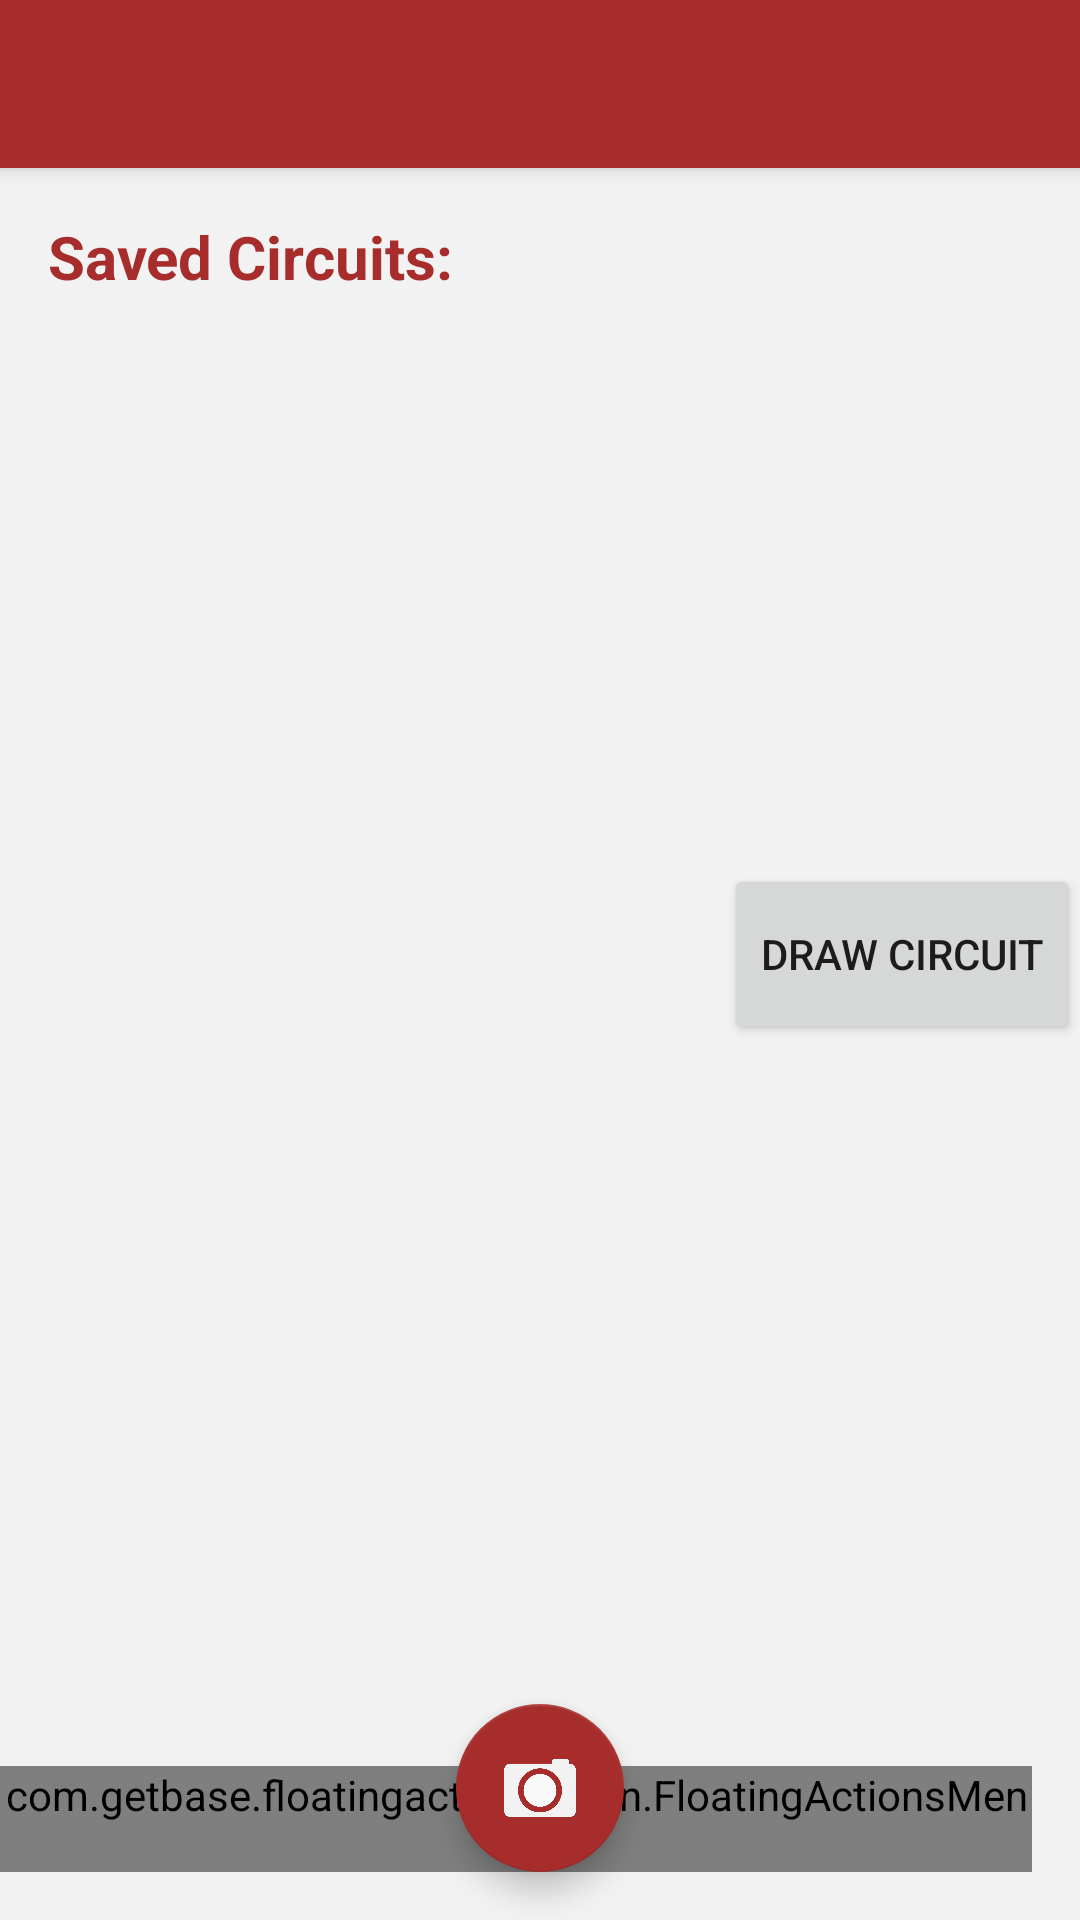

Screen size 1080 x 1920. Icon name, then its center in pixels as point (x, y):
cam: point (540, 1788)
